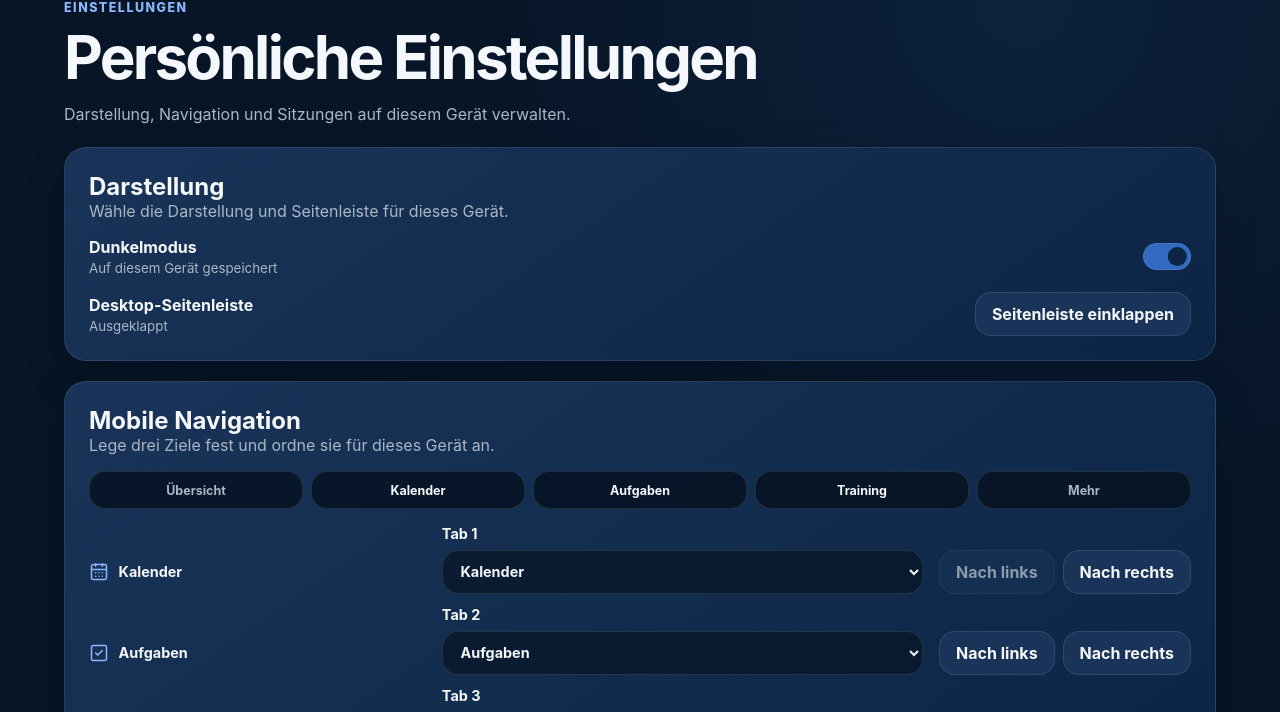
SettingsPage › configures unique mobile tabs and reorders their positions
Expected: the text "Übersicht" is shown, [89, 471, 303, 509]
Expected: the text "Mehr" is shown, [977, 471, 1191, 509]
Select "Dateien" in the dropdown labelled "Tab 1" at point(682, 572), box [442, 550, 923, 594]
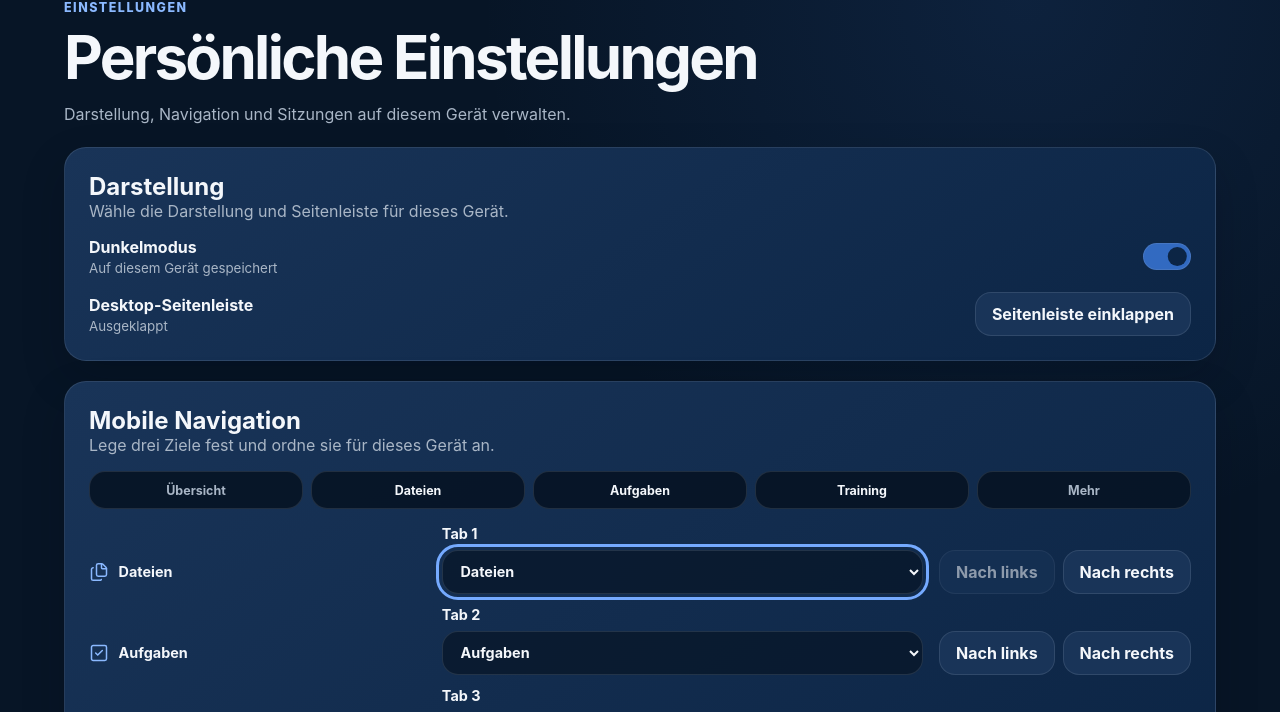
Click the button with aria-label "Tab 1 nach rechts" at point(1127, 572), box [1063, 550, 1191, 594]
(page scrolled)
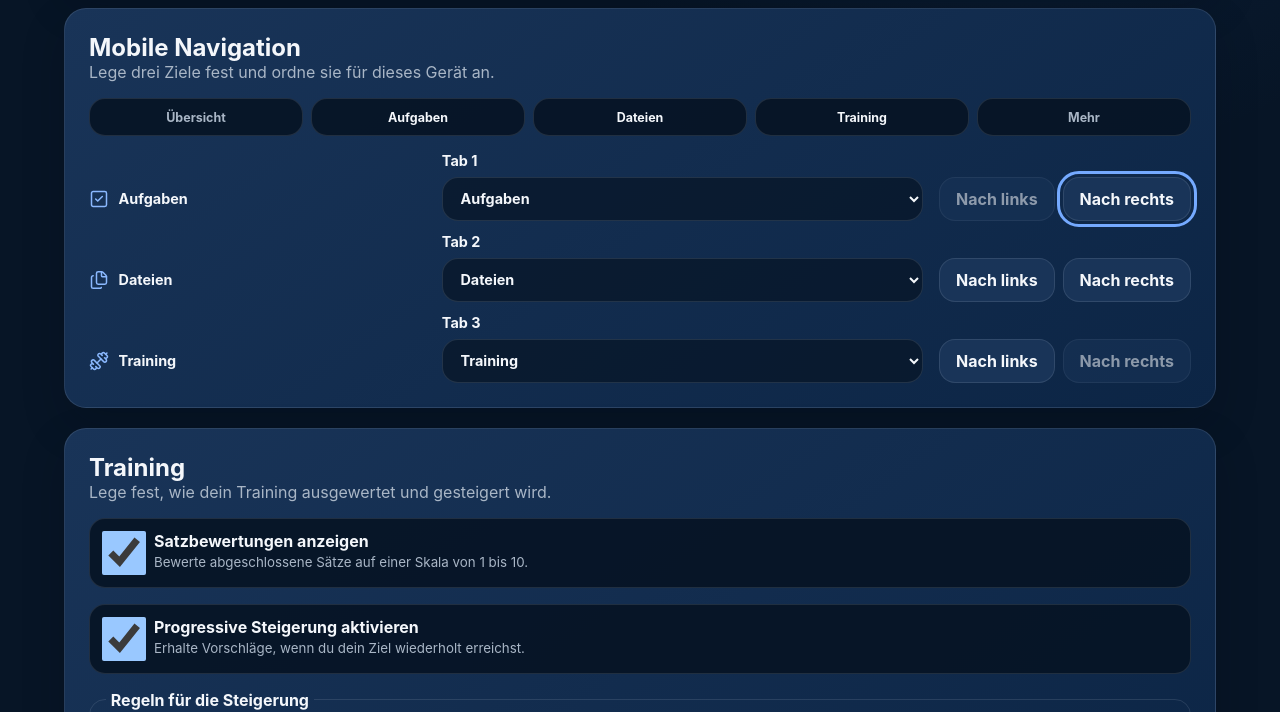
Expected: the button with aria-label "Tab 1 nach links" is disabled, [939, 177, 1055, 221]
Expected: the dropdown labelled "Tab 2" shows "Dateien", [442, 258, 923, 302]
